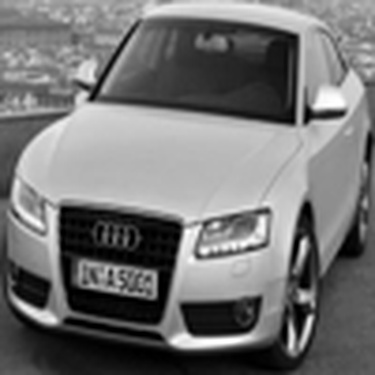car: (4, 3, 371, 373)
